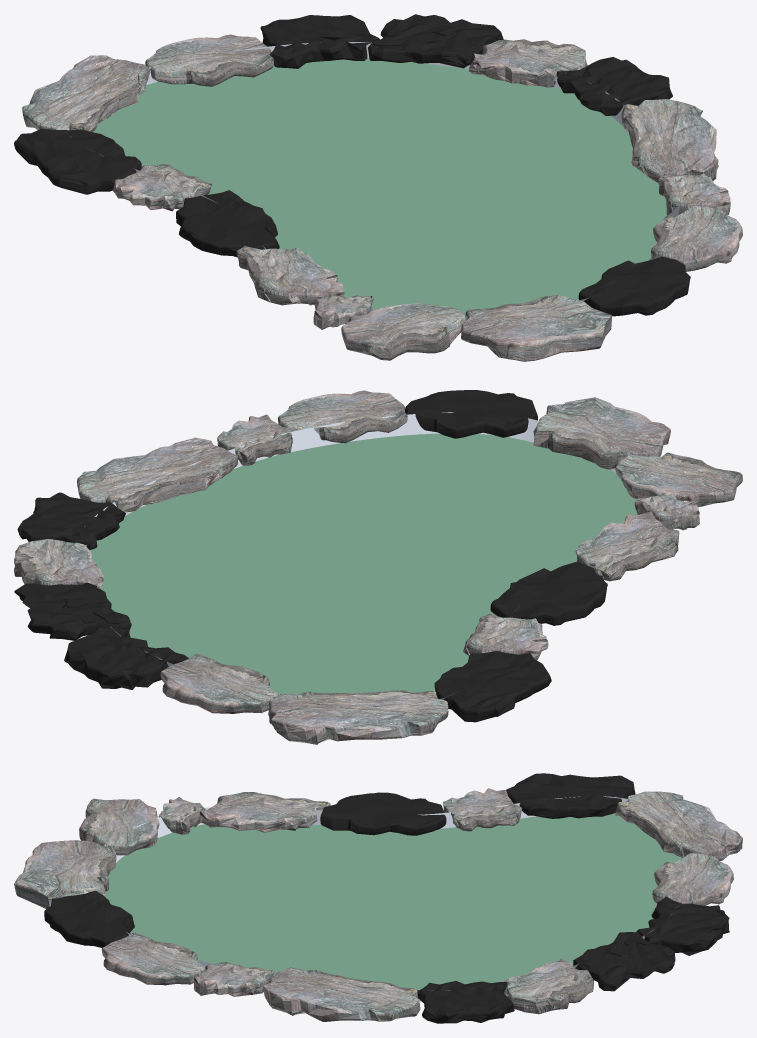
Rendered from etang2.dae.
The picture shows the model from 3 angles, top to bottom: view 1: azimuth 30°, elevation 25°; view 2: azimuth 150°, elevation 25°; view 3: azimuth 270°, elevation 25°; orthographic projection. The views are drawn at different scales.
Parts seen in each view (by area): view 1: basinsufra, rocks, basin; view 2: basinsufra, rocks, basin; view 3: basinsufra, rocks, basin.
Part boxes in pixels (x1=…): basinsufra: x1=92, y1=58, x2=667, y2=315; rocks: x1=14, y1=14, x2=742, y2=361; basin: x1=64, y1=42, x2=680, y2=318; basinsufra: x1=90, y1=433, x2=637, y2=696; rocks: x1=14, y1=390, x2=742, y2=744; basin: x1=73, y1=412, x2=665, y2=706; basinsufra: x1=105, y1=813, x2=681, y2=1001; rocks: x1=14, y1=773, x2=742, y2=1023; basin: x1=84, y1=796, x2=697, y2=998.
Size of the model in its own units: 6.18 by 7.82 by 0.2695.
Materials: 4 (1 with a texture image).
